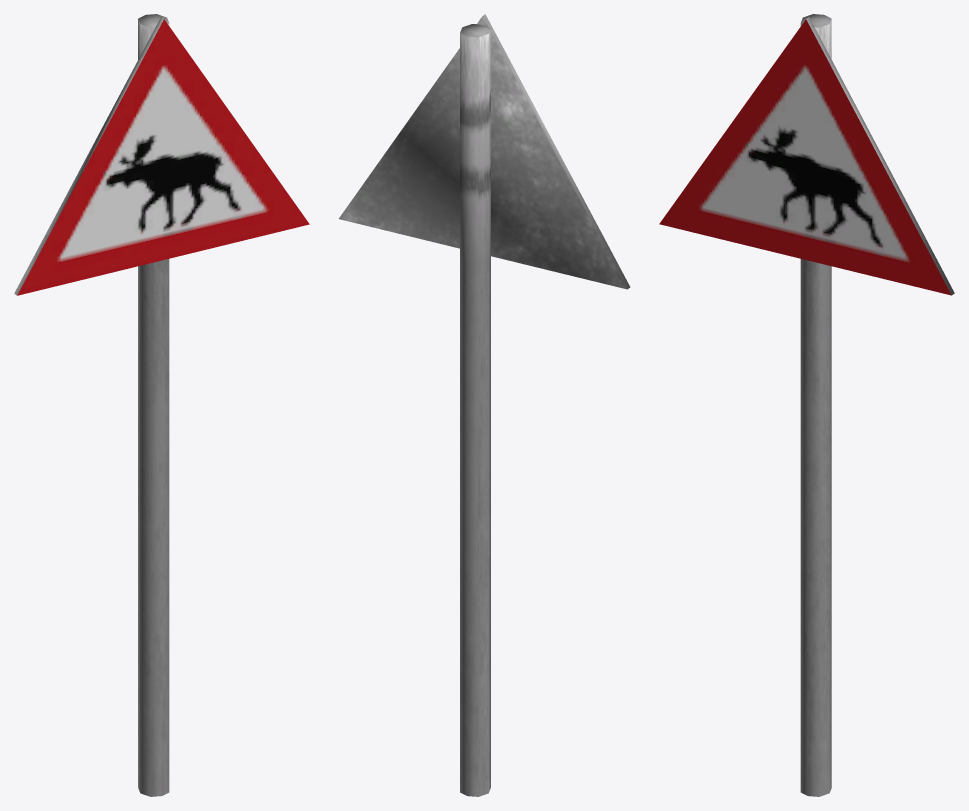
File: ElgSkilt.glb
The picture shows the model from 3 angles, left to right: view 1: azimuth 30°, elevation 25°; view 2: azimuth 150°, elevation 25°; view 3: azimuth 330°, elevation 25°; orthographic projection.
Visible parts, largest first — view 1: ElgSkilt; view 2: ElgSkilt; view 3: ElgSkilt.
Part boxes in pixels (x1,y1,x2,y2): ElgSkilt: [14, 14, 309, 796]; ElgSkilt: [339, 14, 630, 796]; ElgSkilt: [659, 14, 954, 796].
Size of the model in its own units: 6.73 by 17.12 by 0.7342.
Materials: 1 (1 with a texture image).
